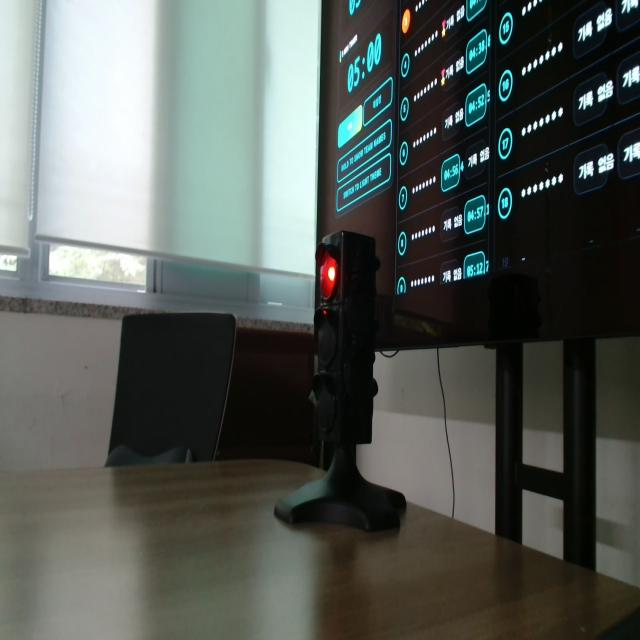red_light: (320, 254, 337, 299)
